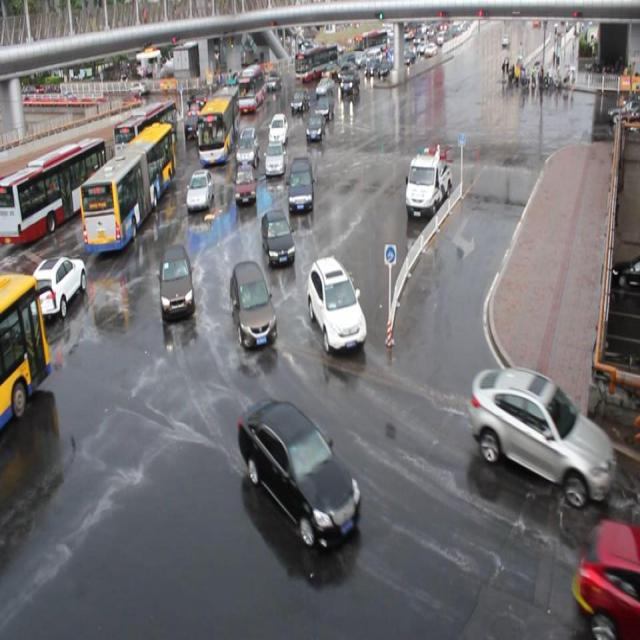bus: (406, 150, 451, 217)
car: (471, 358, 610, 506), (239, 391, 362, 554), (572, 518, 640, 640), (306, 250, 365, 351), (230, 258, 278, 346), (29, 249, 87, 321), (161, 240, 193, 324), (259, 207, 294, 267), (288, 155, 312, 214), (186, 166, 213, 210), (236, 124, 258, 166), (234, 163, 255, 204), (268, 110, 288, 148), (263, 141, 286, 173), (183, 112, 202, 140), (305, 111, 322, 142), (316, 93, 336, 118), (290, 87, 308, 113), (187, 94, 210, 114)
van: (1, 135, 108, 253), (80, 123, 173, 255), (1, 273, 50, 432), (113, 100, 178, 163), (200, 83, 240, 166), (235, 64, 265, 119)
